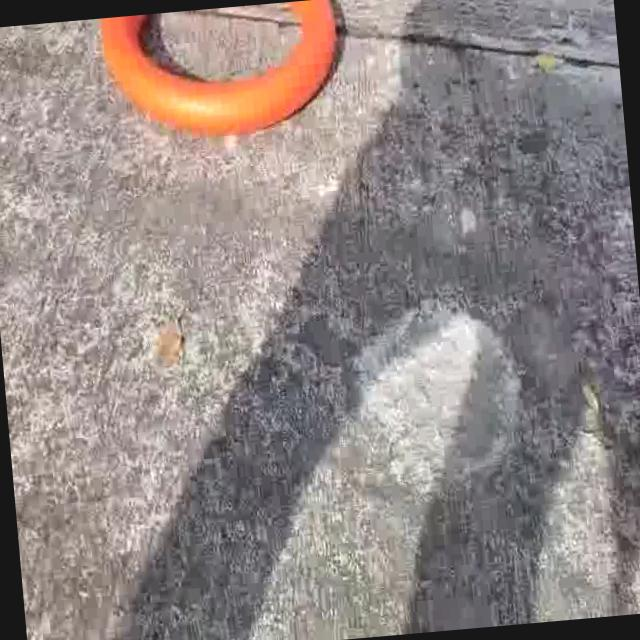note: (98, 0, 353, 146)
